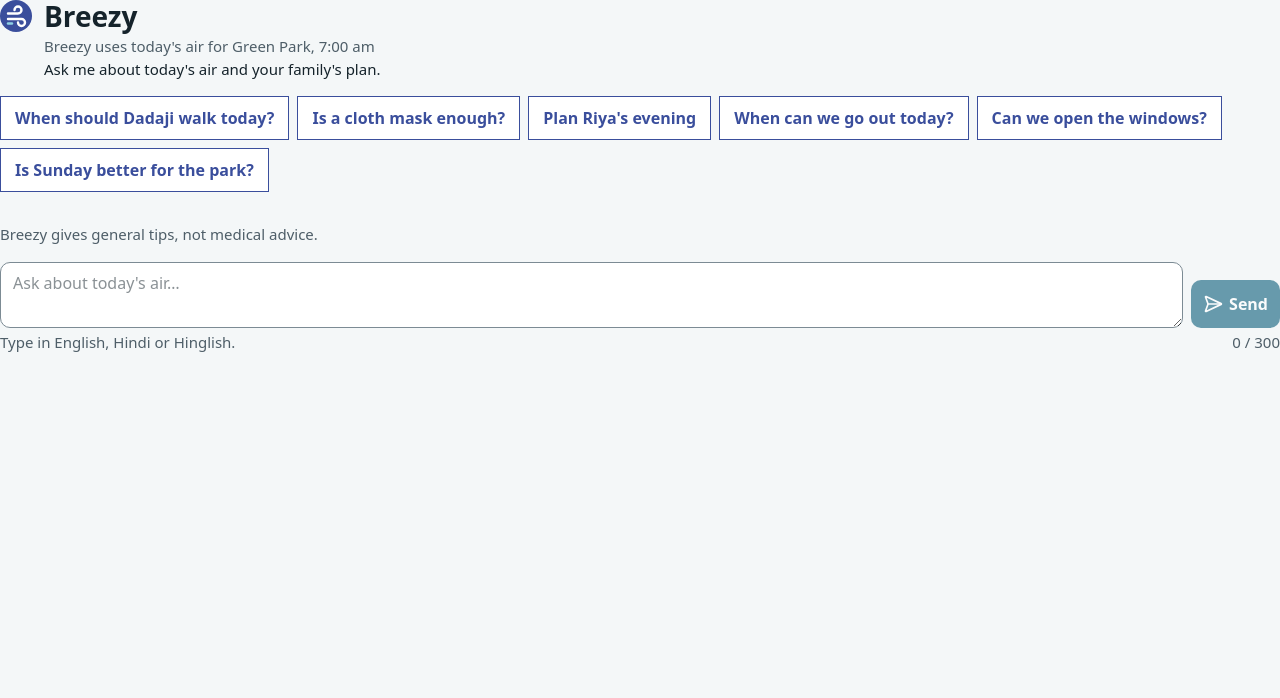
BreezyView › asks 'Who is this for?' and uses that person's rule slot (or says it cannot be added)
This screenshot has width=1280, height=698.
Type "Walk?" into the text box named "Your question for Breezy" at (592, 295), box [0,262,1183,328]
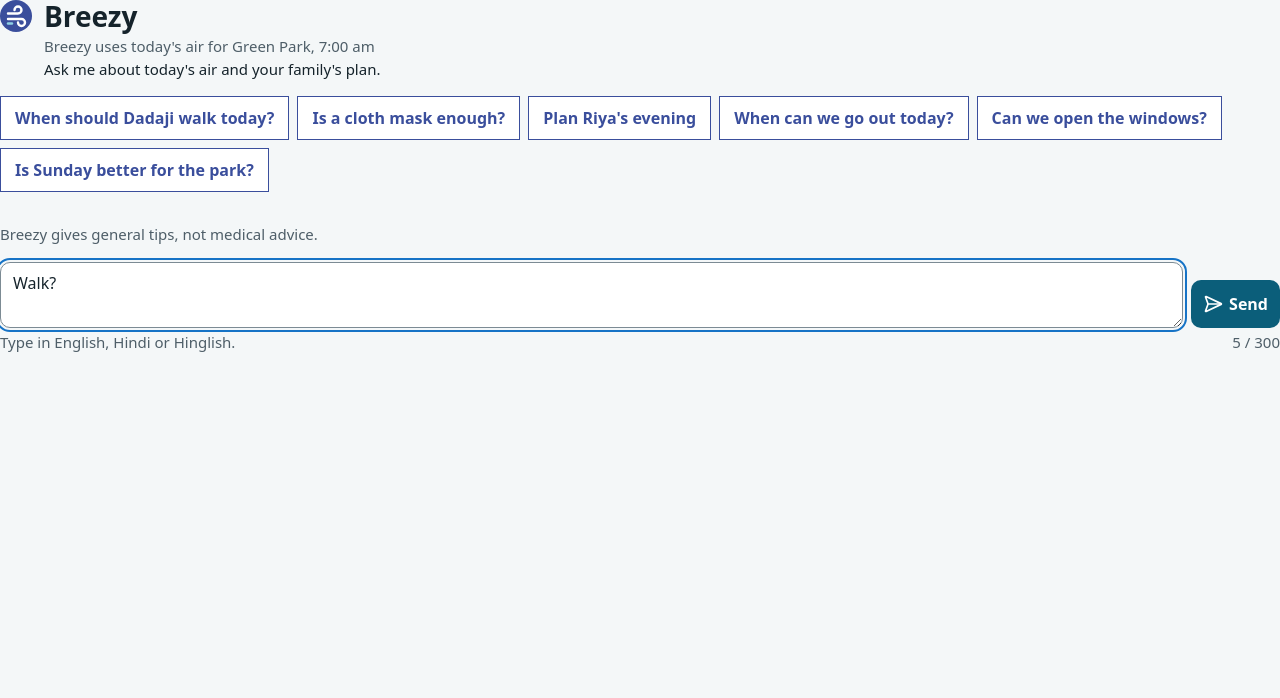
Click the button "Send" at (1236, 304), box [1191,280,1279,328]
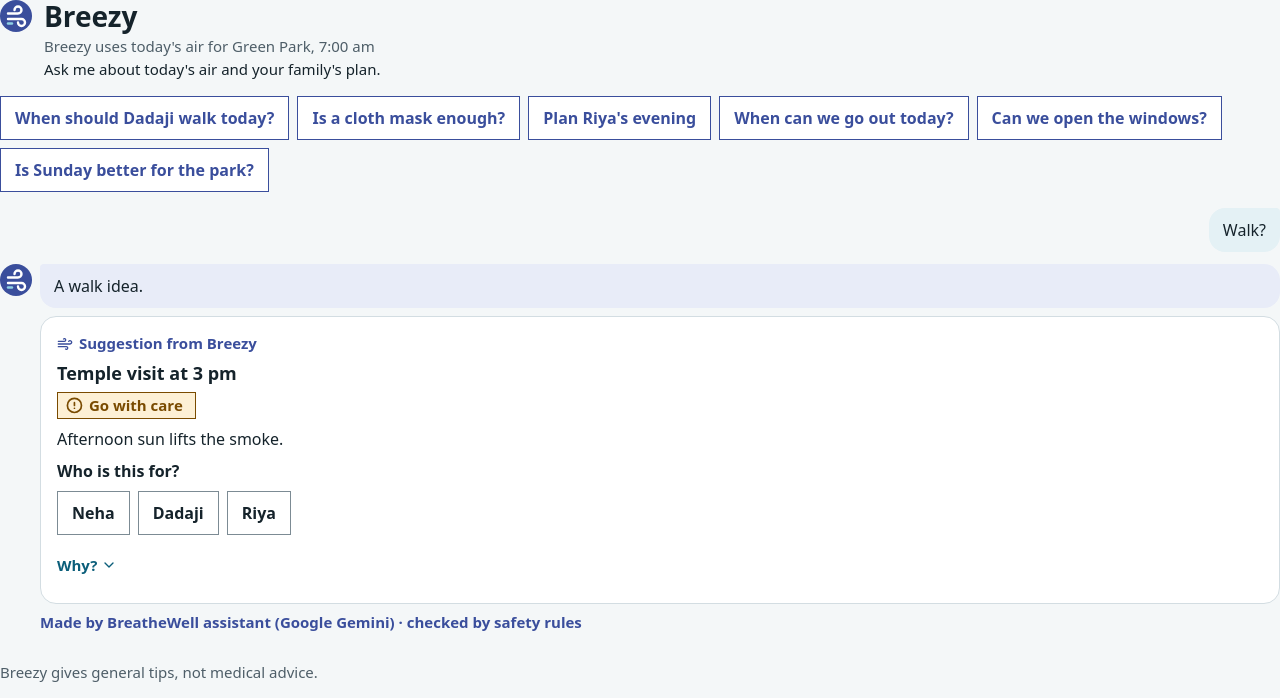
Check: the text "Who is this for?" is shown, box [57,460,180,482]
Click the button "Dadaji" at (178, 513), box [138,491,219,535]
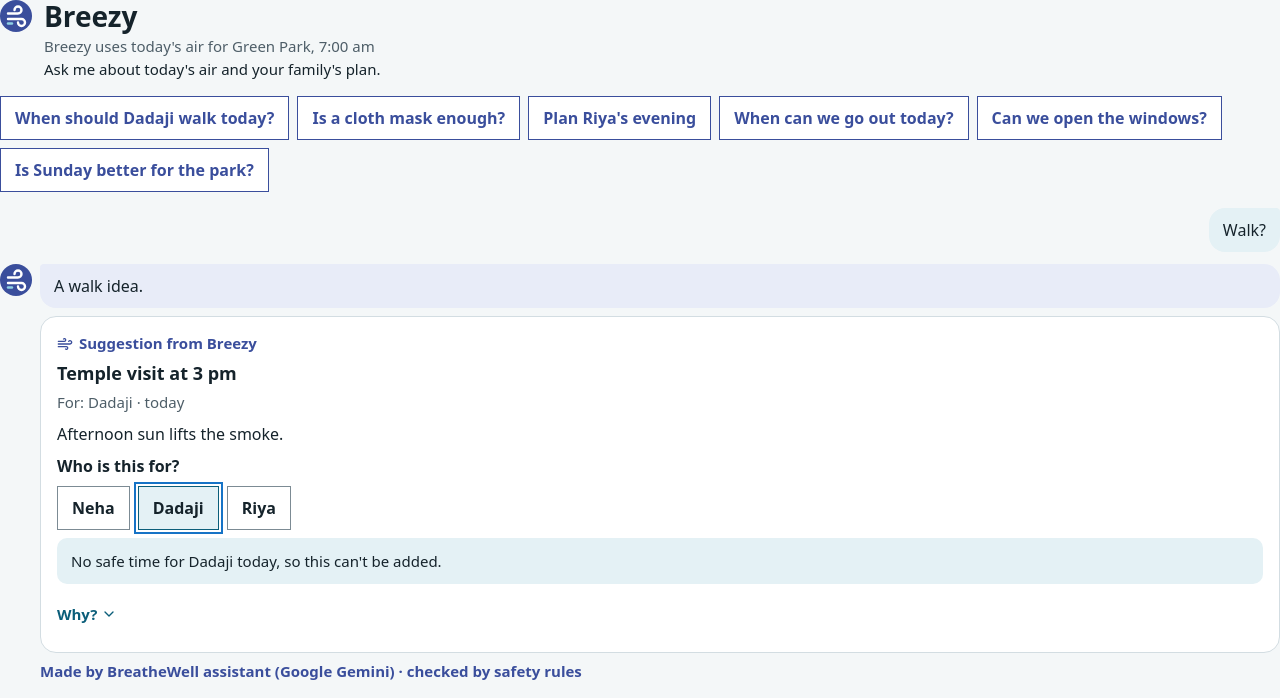
Check: the text "No safe time for Dadaji today, so this can't be added." is shown, box [57,538,1263,584]
Click the button "Neha" at (93, 508), box [57,486,130,530]
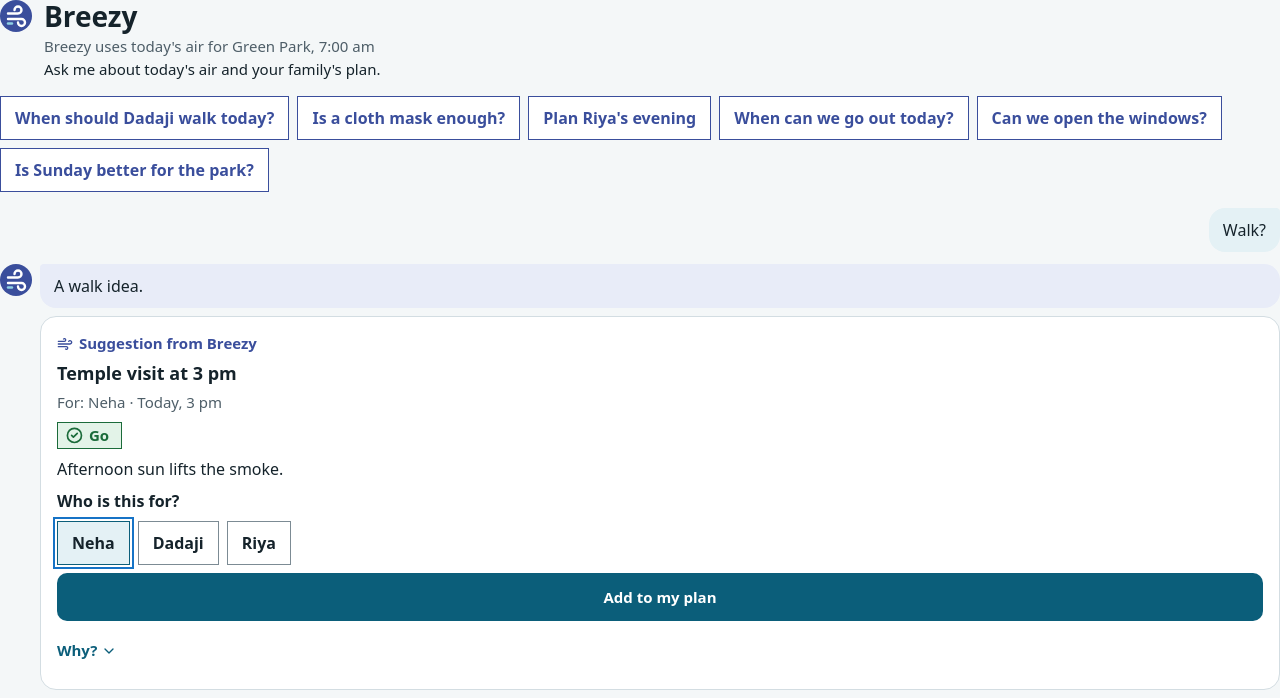
Check: the text "For: Neha · Today, 3 pm" is shown, box [57,392,222,412]
Click the button "Add to my plan" at (660, 596), box [57,572,1263,620]
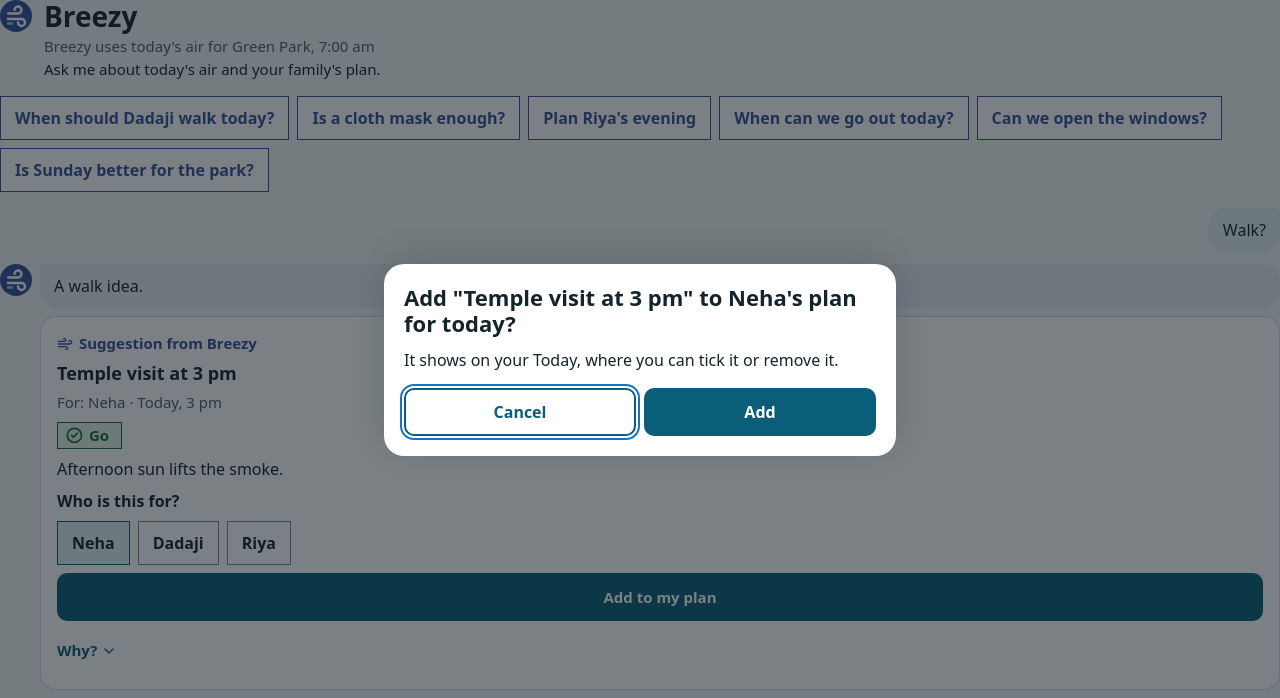
Check: the text "It shows on your Today, where you can tick it or remove it." is shown, box [404,348,876,372]
Click the button "Add" at (760, 412), box [644,388,876,436]
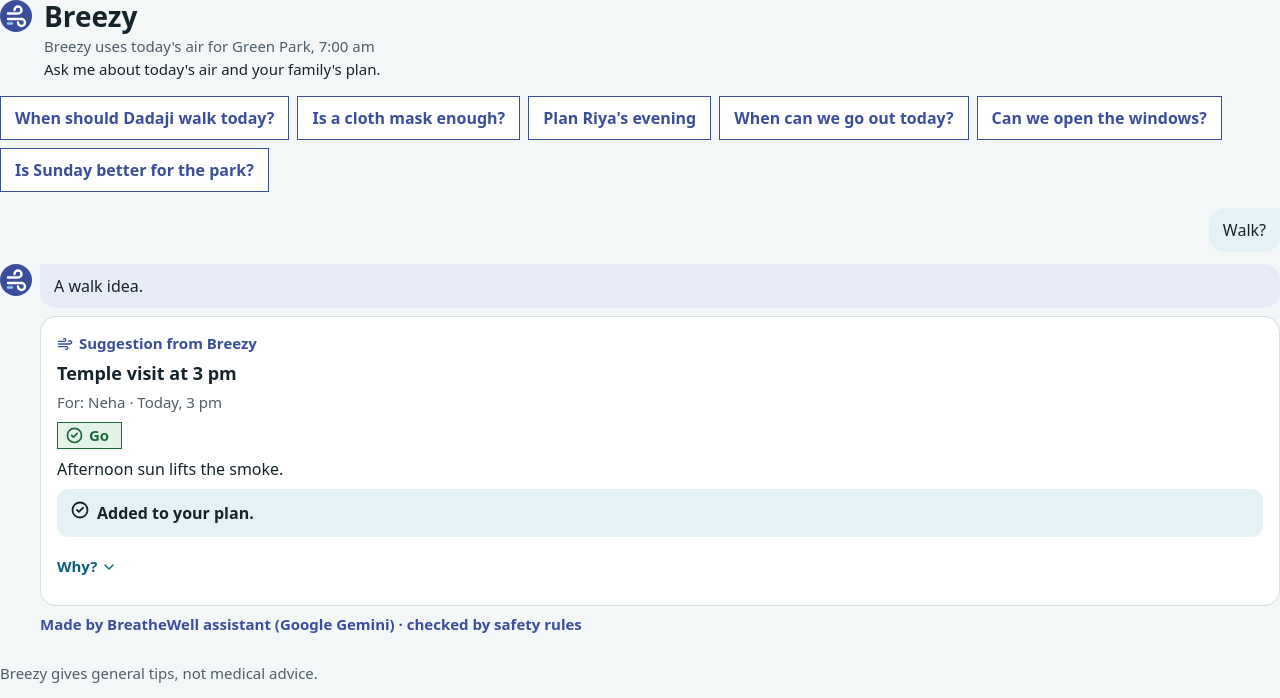
Check: the text "Added to your plan." is shown, box [71,500,254,524]
